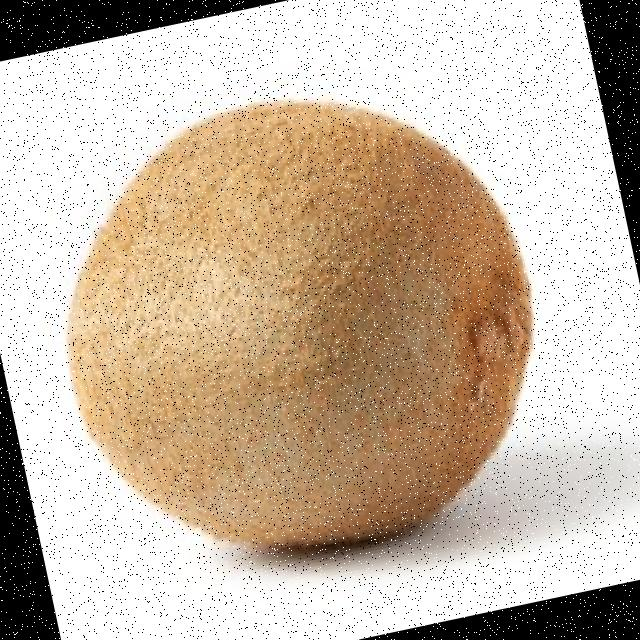kiwi: (70, 102, 534, 549)
